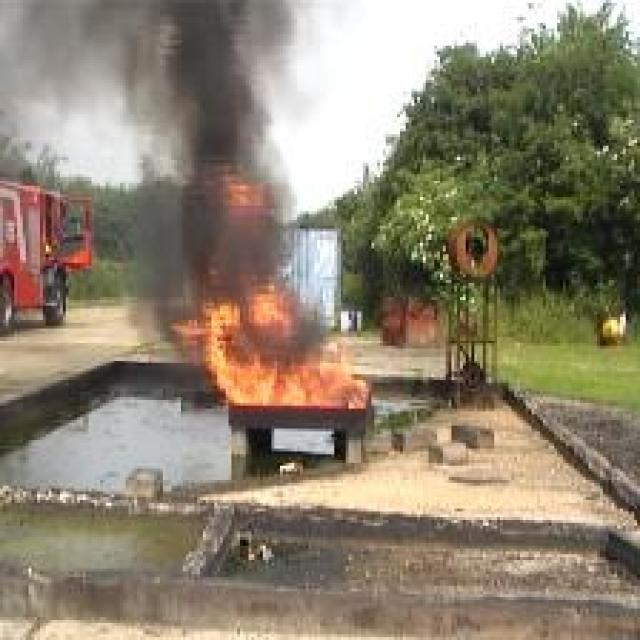Fire: (167, 172, 370, 408)
